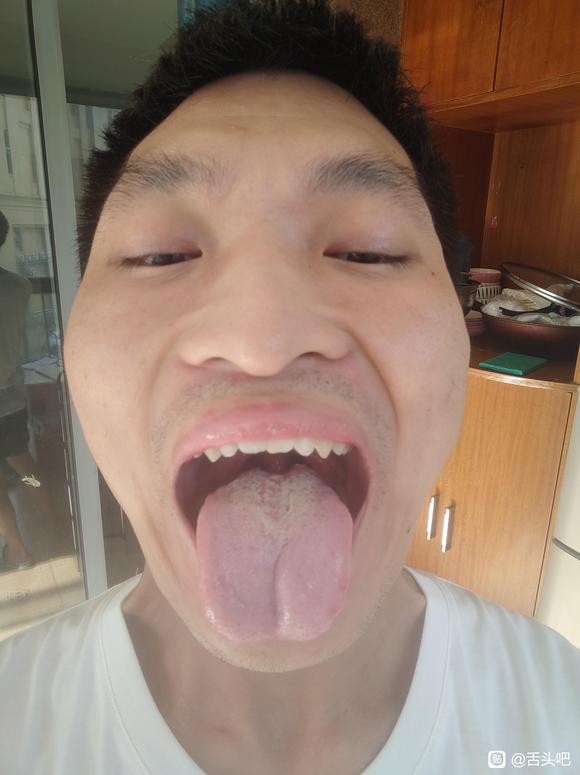baitaishe: (195, 464, 353, 642)
liewenshe: (269, 536, 287, 633)
shenquao: (249, 465, 305, 484)
